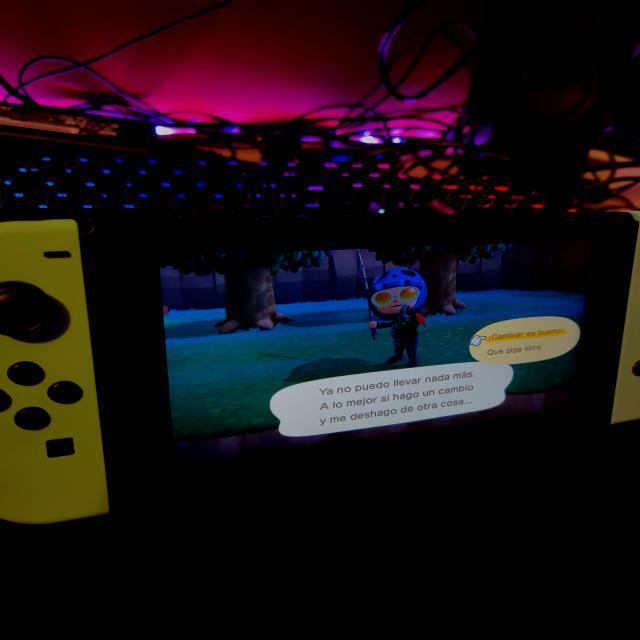text_bubble: (268, 360, 518, 440), (468, 315, 583, 368)
